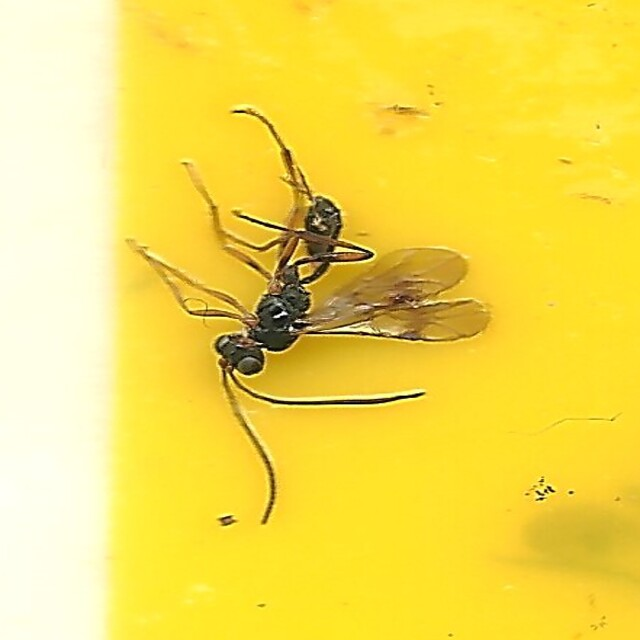Hymenoptera: (145, 110, 495, 530)
